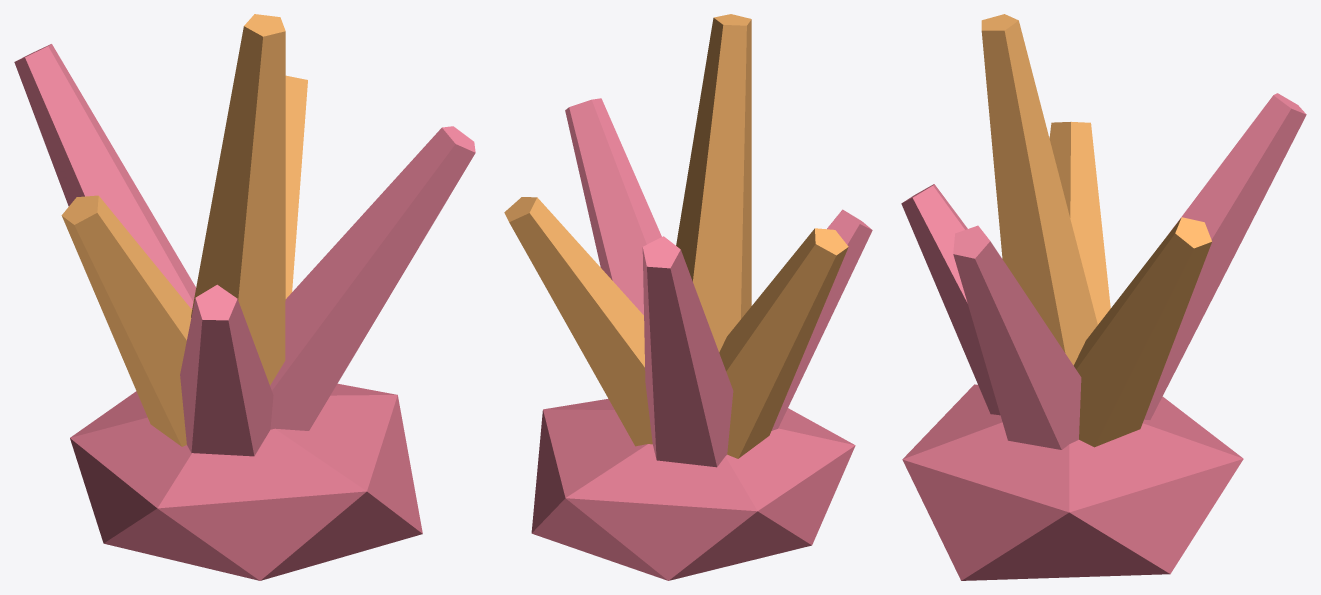
The model's file is coral.glb.
The picture shows the model from 3 angles, left to right: view 1: azimuth 30°, elevation 25°; view 2: azimuth 150°, elevation 25°; view 3: azimuth 270°, elevation 25°; orthographic projection. The views are drawn at different scales.
Parts seen in each view (by area): view 1: coral; view 2: coral; view 3: coral.
Part boxes in pixels (x1,y1,x2,y2): coral: (14, 14, 475, 580); coral: (504, 14, 872, 580); coral: (901, 14, 1306, 580).
Size of the model in its own units: 1.29 by 1.98 by 1.36.
